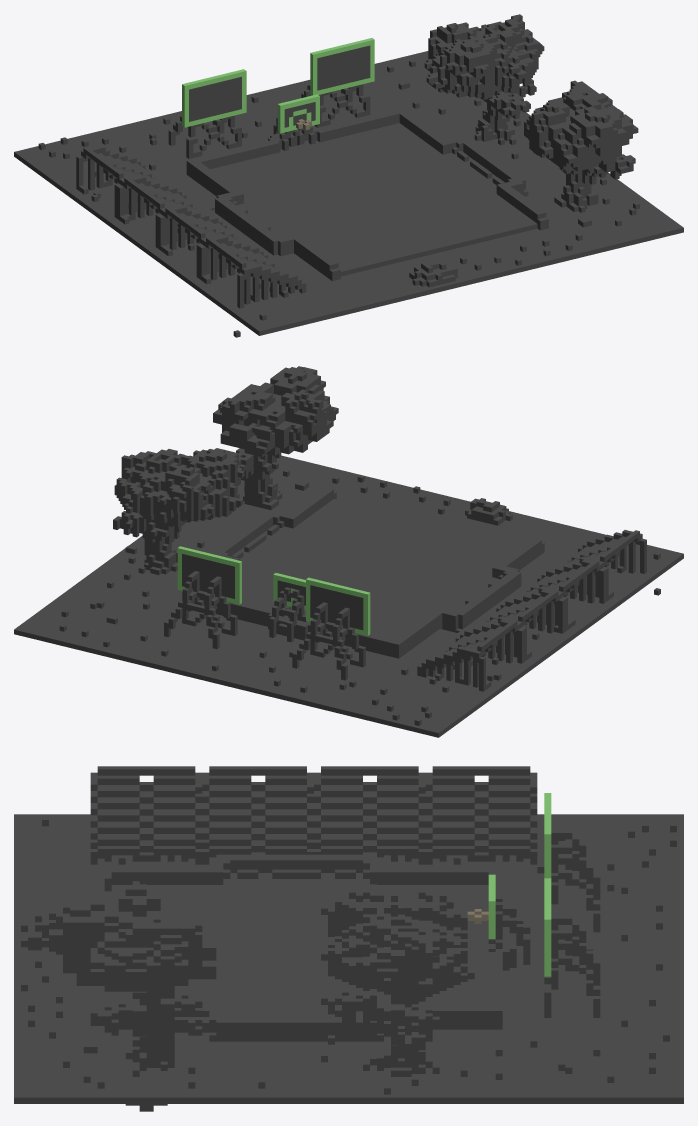
The model's file is Basket_Grid.obj.
3 renders of one model, top to bottom at view 1: azimuth 30°, elevation 25°; view 2: azimuth 150°, elevation 25°; view 3: azimuth 270°, elevation 25°, orthographic. The views are drawn at different scales.
Bounding box in the file's own units: 9.6 × 2.9 × 9.6.
Materials: 1 (1 with a texture image).
